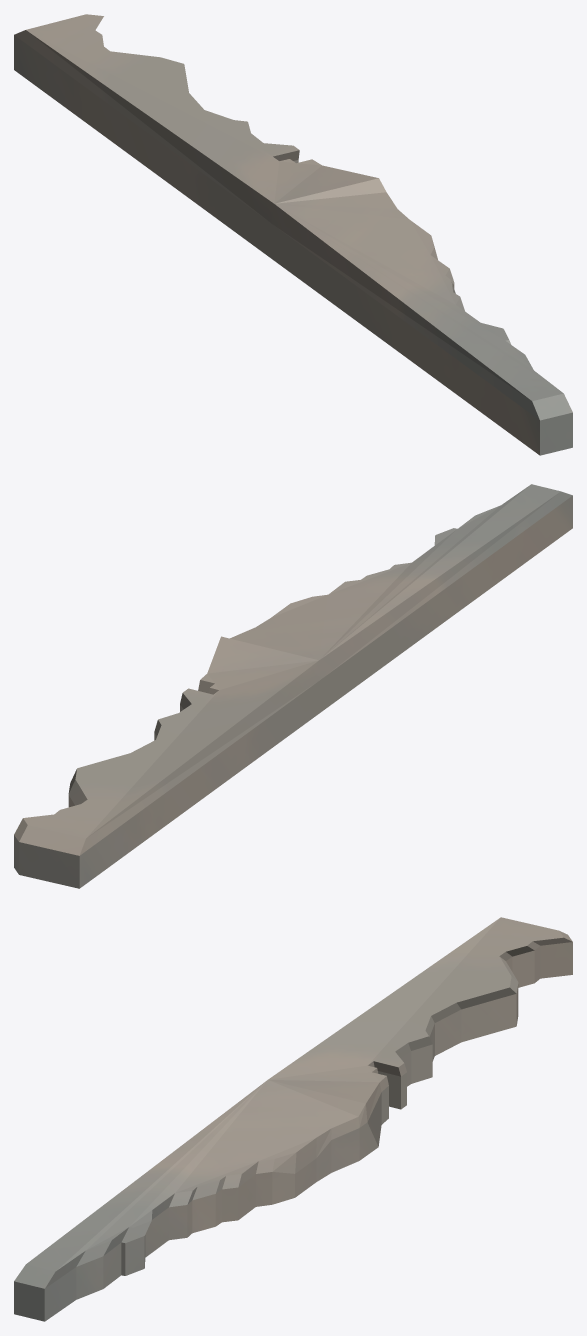
The model's file is SM_Rock3.fbx.
The picture shows the model from 3 angles, top to bottom: view 1: azimuth 30°, elevation 25°; view 2: azimuth 150°, elevation 25°; view 3: azimuth 330°, elevation 25°; orthographic projection. The views are drawn at different scales.
Visible parts, largest first — view 1: Rock3; view 2: Rock3; view 3: Rock3.
Boxes of the visible parts, bbox=[...] form: Rock3: bbox=[14, 14, 572, 455]; Rock3: bbox=[14, 484, 572, 888]; Rock3: bbox=[14, 917, 572, 1321].
Bounding box in the file's own units: 977 × 8159 × 467.
Materials: 1 (1 with a texture image).
